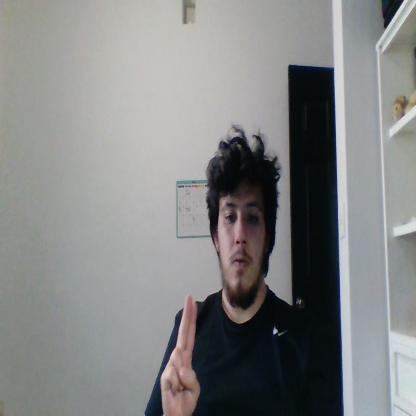U: (160, 294, 200, 415)
